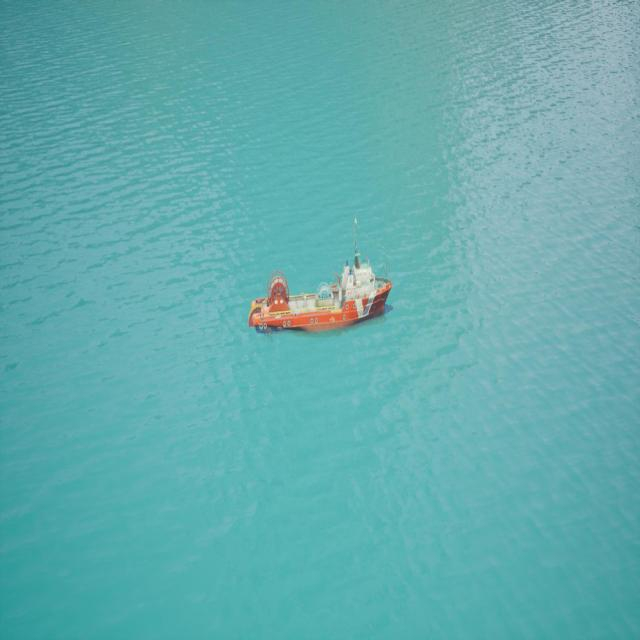tug boat: (250, 216, 395, 341)
